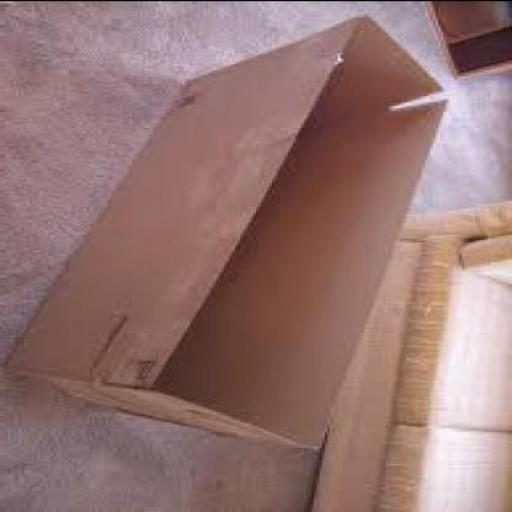cardboard: (6, 12, 451, 445), (427, 1, 511, 75)
